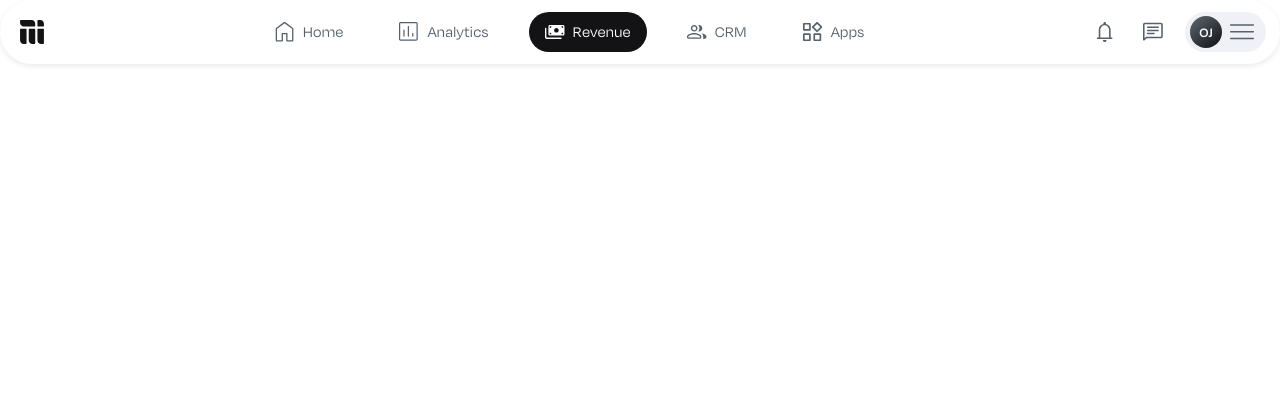
Test: Navbar › should expand Apps menu when Apps button is clicked
The image size is (1280, 395).
Step 1. Click the button "Apps" → (833, 32), box [787,12,880,52]
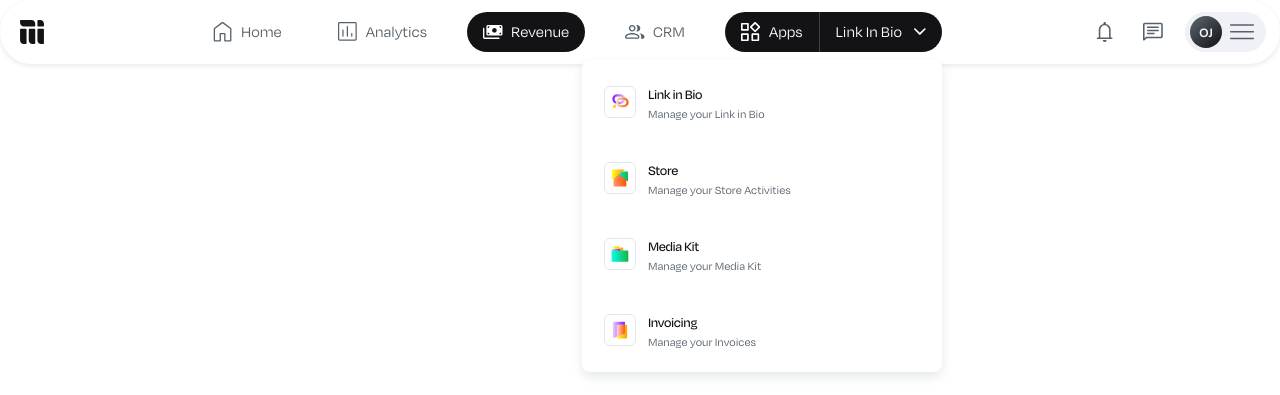
Result: the text "Link In Bio" is shown at [836,20,902,44]
